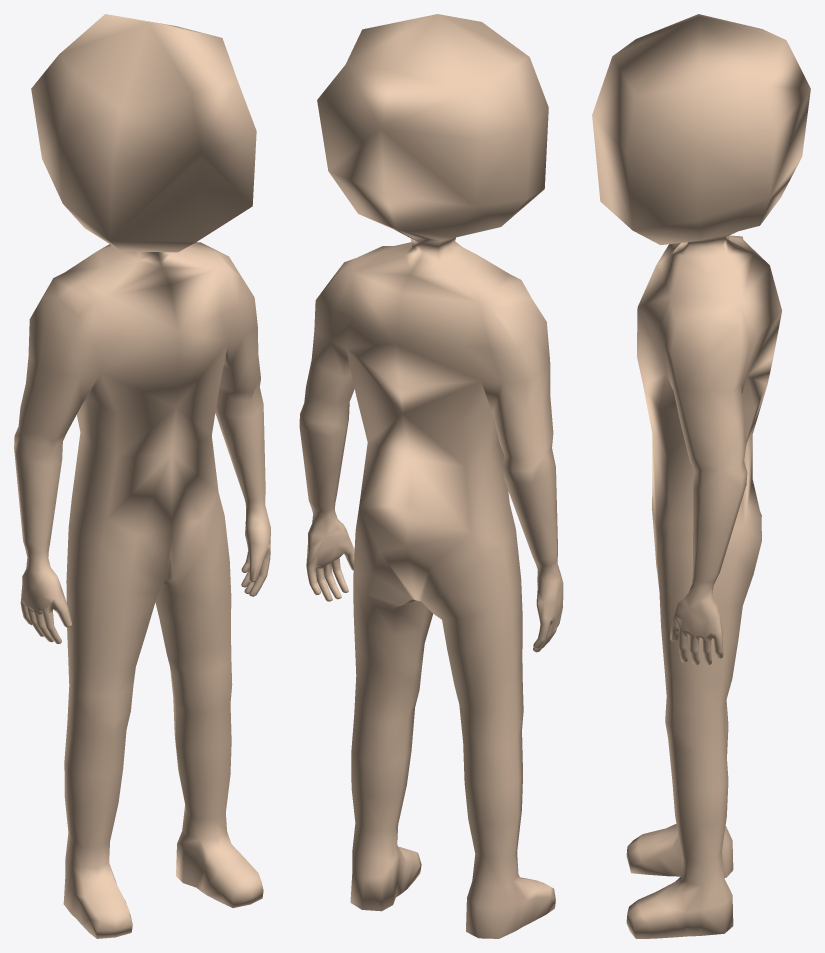
The model's file is CharacterBase.glb.
The picture shows the model from 3 angles, left to right: view 1: azimuth 30°, elevation 25°; view 2: azimuth 150°, elevation 25°; view 3: azimuth 270°, elevation 25°; orthographic projection. The views are drawn at different scales.
Visible parts, largest first — view 1: Figure; view 2: Figure; view 3: Figure.
Boxes of the visible parts, <box> form: Figure: <box>14,14,270,938</box>; Figure: <box>299,14,563,938</box>; Figure: <box>592,14,810,938</box>.
Bounding box in the file's own units: 0.5006 × 1.74 × 0.3912.
